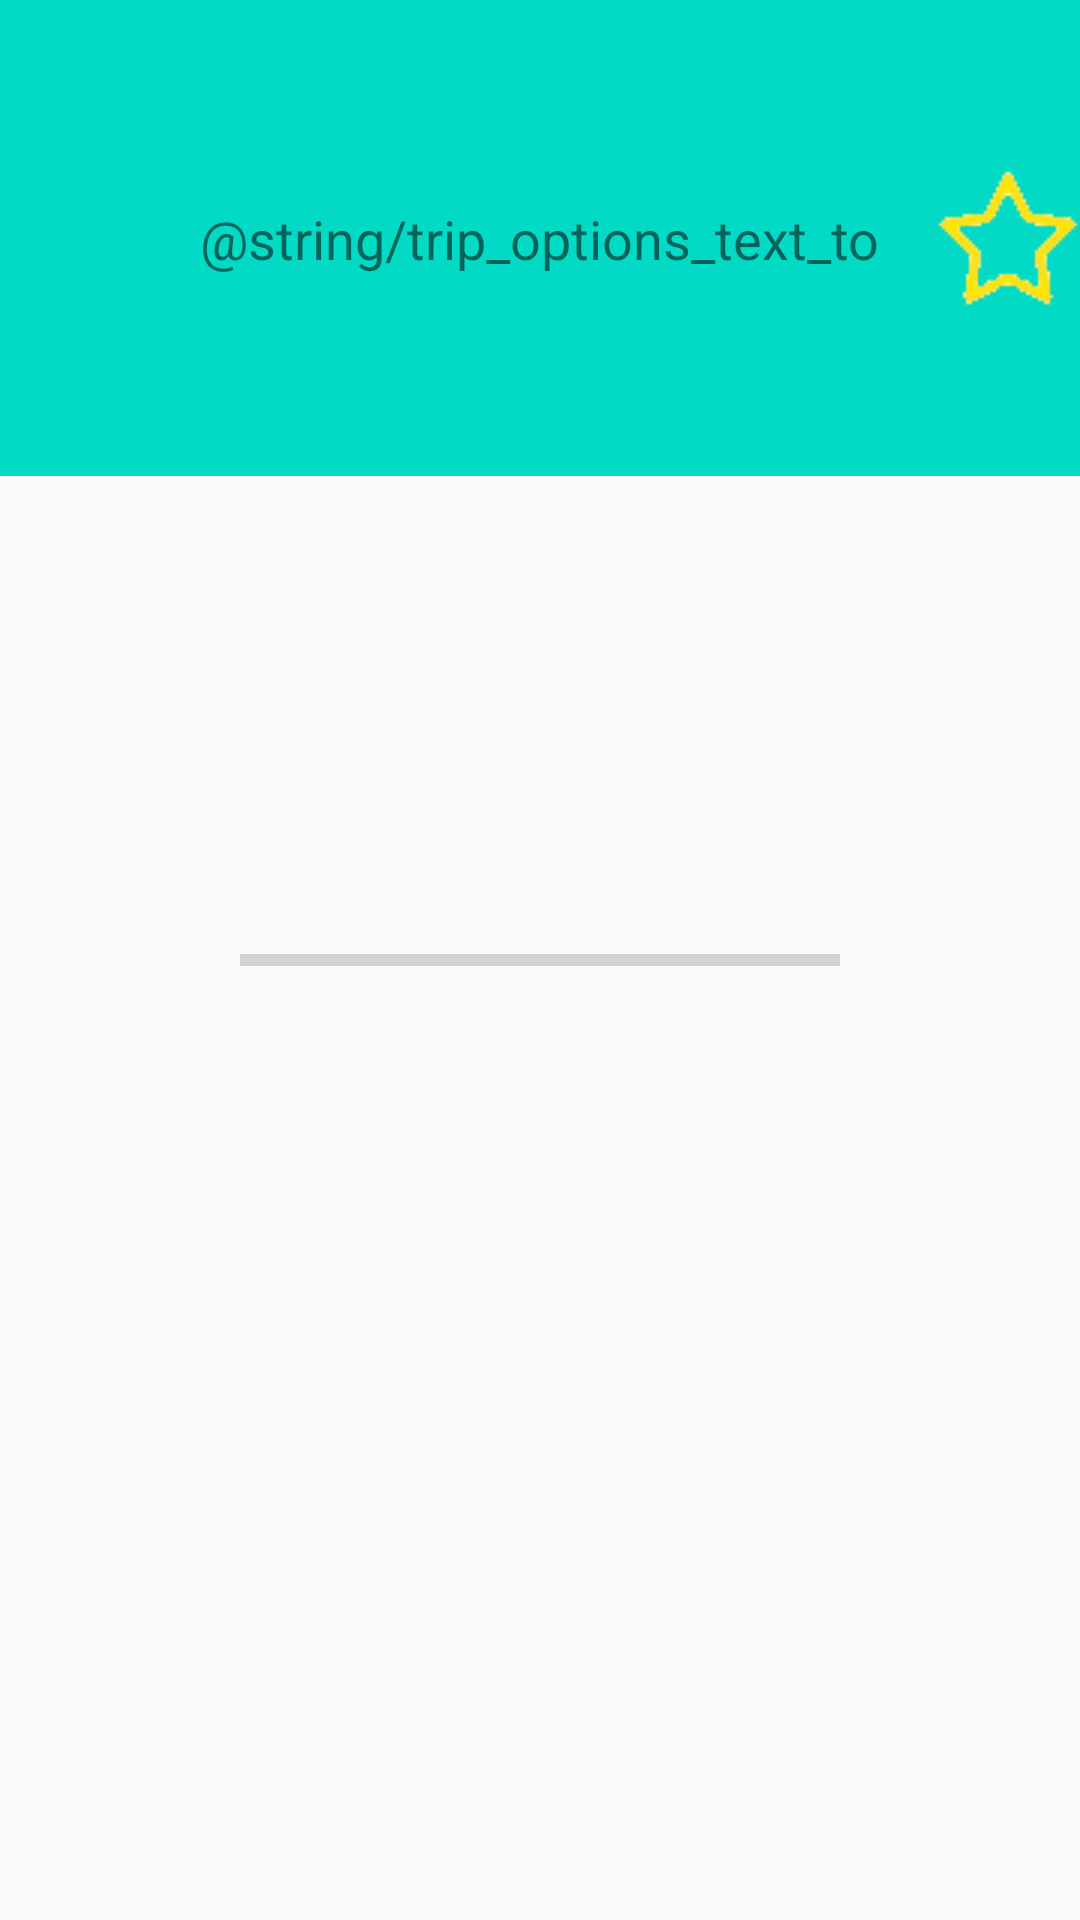

Where icons sit on this 1080w x 1920h app screen, as box(x1, y1, x2, y2):
activity trip options unfavourite: box(938, 171, 1078, 305)
